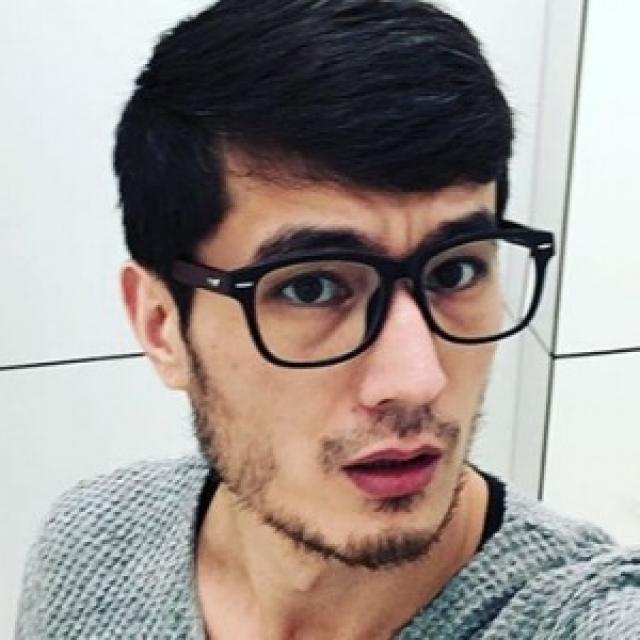earlobe: (156, 353, 191, 393)
eye: (276, 270, 352, 308), (430, 256, 487, 294)
nose: (362, 395, 455, 431)
wholeear: (117, 258, 192, 392)
